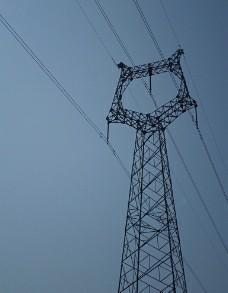power_tower: (108, 43, 202, 293)
